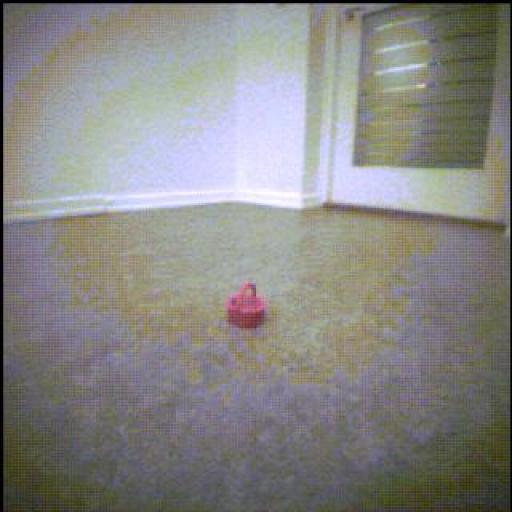Bucket: (227, 283, 267, 329)
